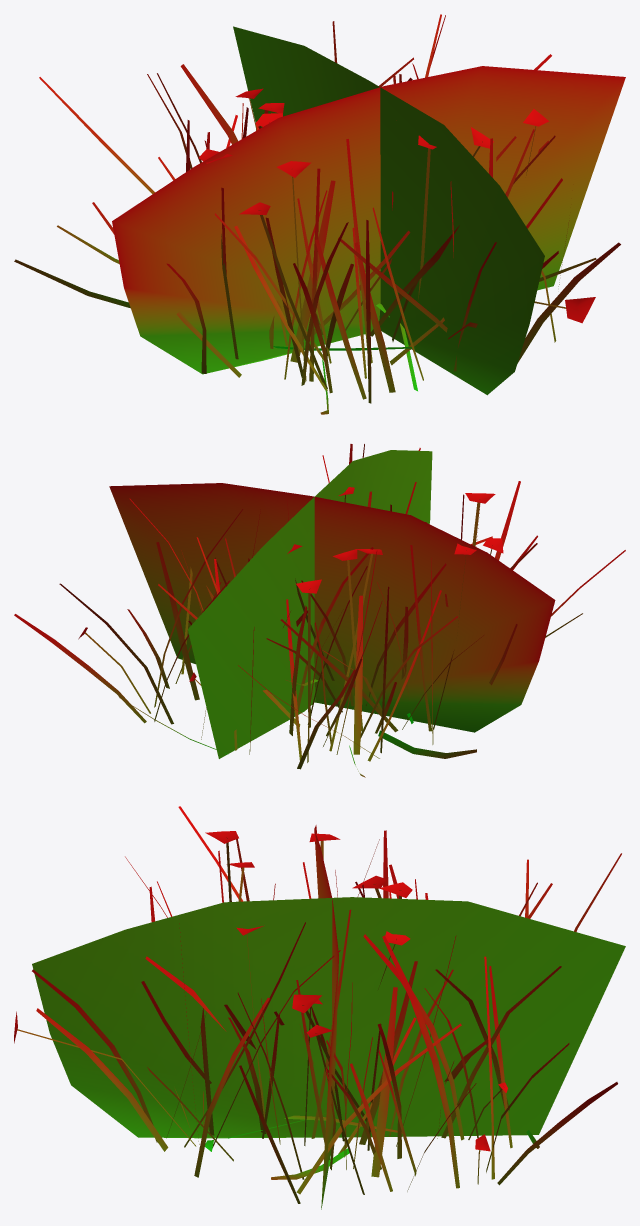
Rendered from vegetation_19.fbx.
3 views of the same model, one above another, from view 1: azimuth 30°, elevation 25°; view 2: azimuth 150°, elevation 25°; view 3: azimuth 270°, elevation 25° (orthographic). The views are drawn at different scales.
Parts seen in each view (by area): view 1: _9gbj_Var2; view 2: _9gbj_Var2; view 3: _9gbj_Var2.
Boxes of the visible parts, x1,y1,x2,y2 form: _9gbj_Var2: (14,14,625,414); _9gbj_Var2: (14,444,625,777); _9gbj_Var2: (14,806,625,1209).
Bounding box in the file's own units: 30.23 × 13.13 × 30.29.
